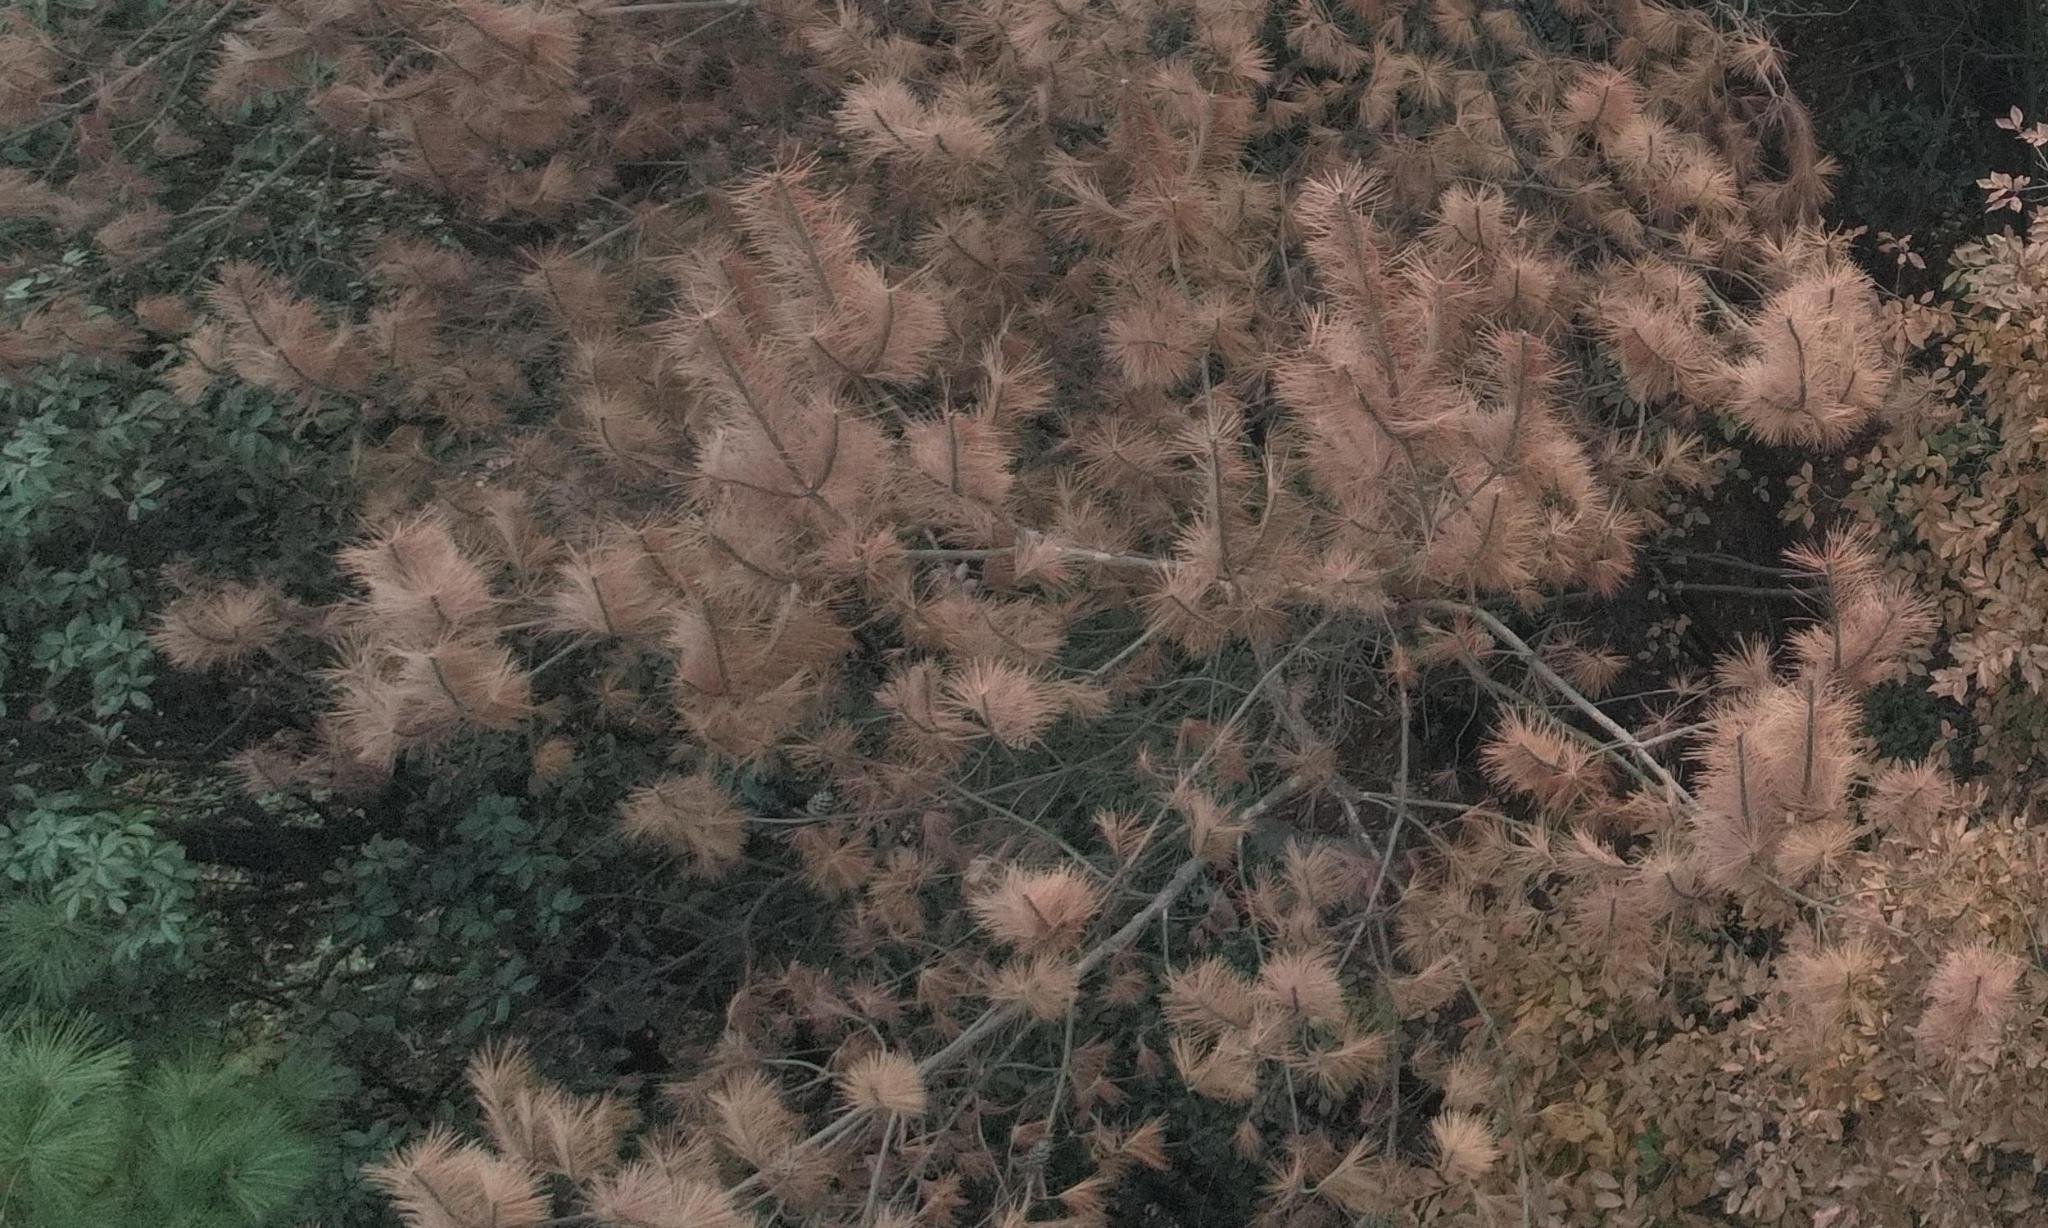heavy: (15, 12, 1976, 1181)
